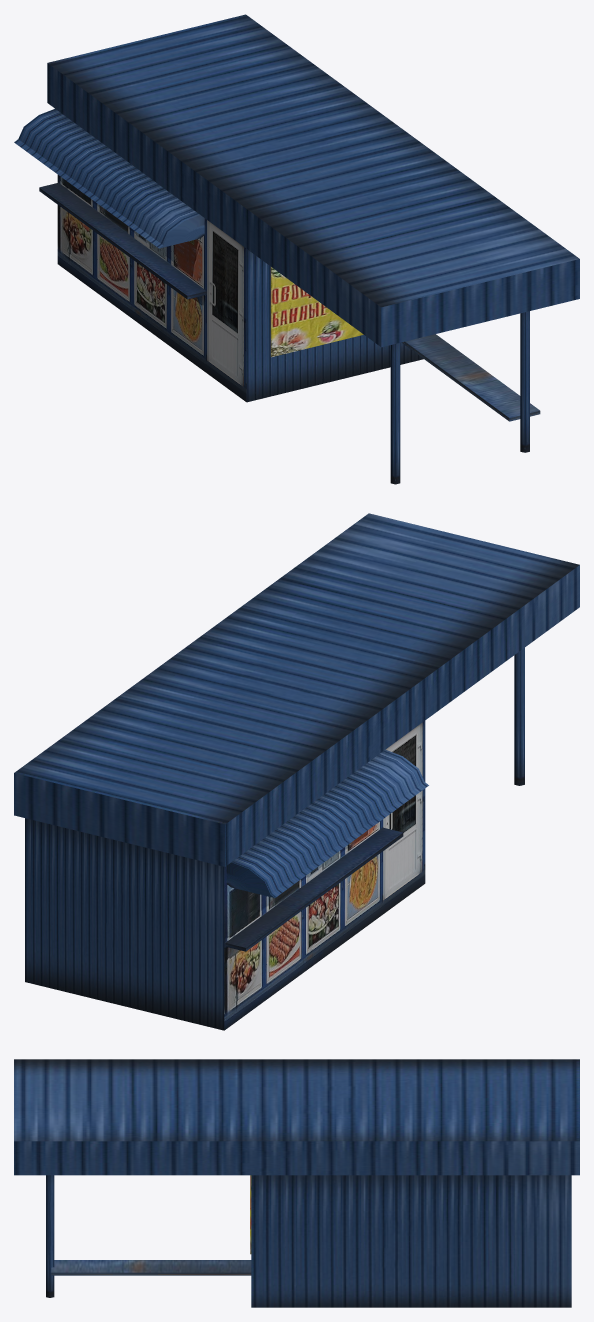
The model's file is omsk_magazin4.FBX.
The picture shows the model from 3 angles, top to bottom: view 1: azimuth 30°, elevation 25°; view 2: azimuth 150°, elevation 25°; view 3: azimuth 270°, elevation 25°; orthographic projection. The views are drawn at different scales.
Visible parts, largest first — view 1: omsk_magazin4; view 2: omsk_magazin4; view 3: omsk_magazin4.
Boxes of the visible parts, x1,y1,x2,y2 form: omsk_magazin4: (14,14,579,484); omsk_magazin4: (14,513,579,1030); omsk_magazin4: (14,1059,579,1307).
Size of the model in its own units: 3.46 by 8.38 by 2.75.
